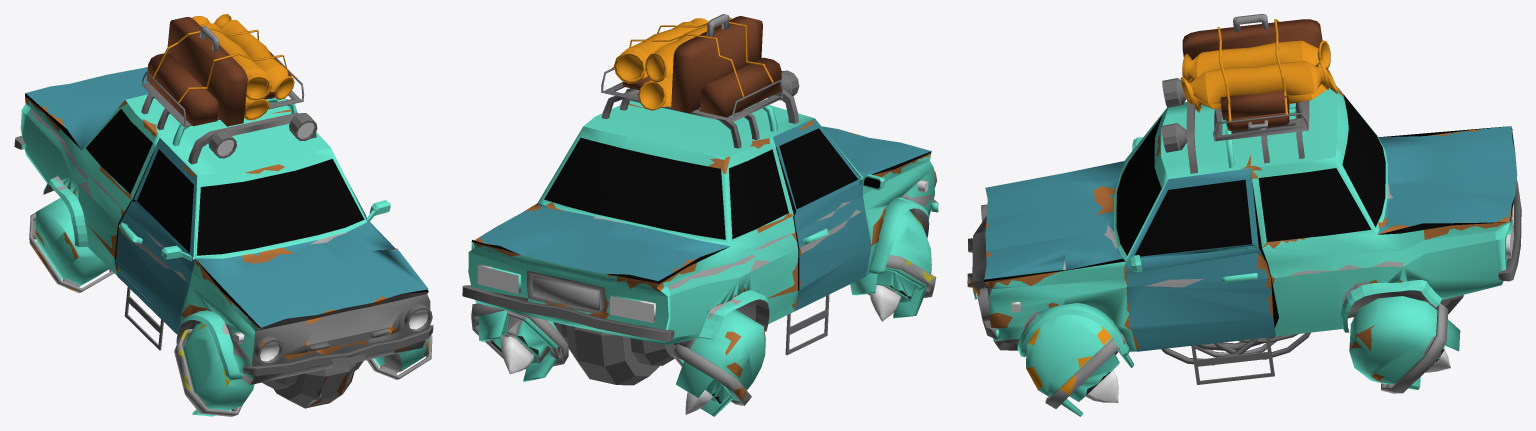
The model's file is car1.fbx.
3 renders of one model, left to right at view 1: azimuth 30°, elevation 25°; view 2: azimuth 150°, elevation 25°; view 3: azimuth 270°, elevation 25°, orthographic. The views are drawn at different scales.
Parts seen in each view (by area): view 1: Cube, nozzle_front_r, nozzle_rear_r, nozzle_front_l; view 2: Cube, nozzle_rear_r, nozzle_front_r, nozzle_rear_l, nozzle_fire_front_l.002, nozzle_fire_front_l; view 3: Cube, nozzle_rear_l, nozzle_front_l, nozzle_fire_front_l.003.
Part boxes in pixels (left/top/right/bottom): Cube: left=14, top=14, right=433, bottom=408; nozzle_front_r: left=174, top=322, right=254, bottom=416; nozzle_rear_r: left=29, top=197, right=113, bottom=292; nozzle_front_l: left=367, top=335, right=432, bottom=379; Cube: left=462, top=14, right=938, bottom=385; nozzle_rear_r: left=671, top=309, right=765, bottom=416; nozzle_front_r: left=850, top=210, right=936, bottom=318; nozzle_rear_l: left=471, top=303, right=568, bottom=381; nozzle_fire_front_l.002: left=501, top=336, right=534, bottom=374; nozzle_fire_front_l: left=870, top=285, right=900, bottom=321; Cube: left=967, top=14, right=1521, bottom=384; nozzle_rear_l: left=1349, top=296, right=1460, bottom=393; nozzle_front_l: left=1026, top=315, right=1133, bottom=416; nozzle_fire_front_l.003: left=1085, top=370, right=1118, bottom=402.
Bounding box in the file's own units: 206 × 249 × 364.
